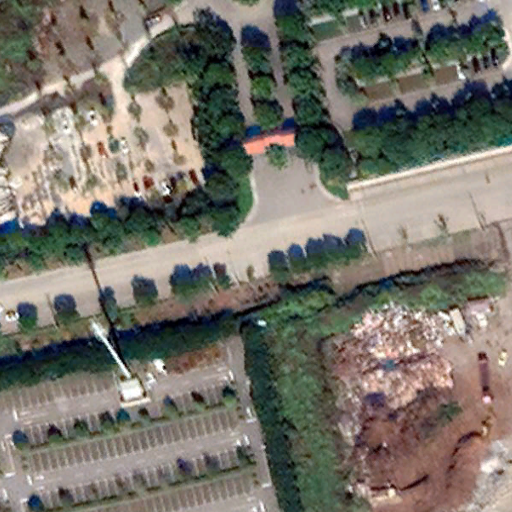msw: (325, 301, 454, 399)
